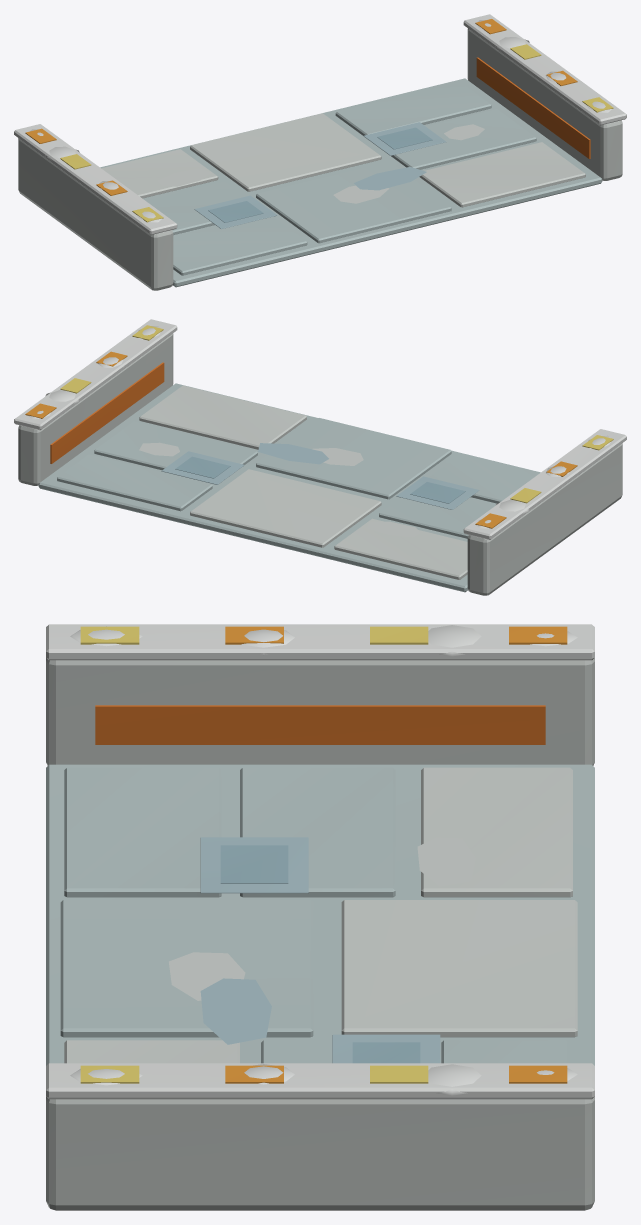
The model's file is runner_day_deck_kerb_b_v1.glb.
The picture shows the model from 3 angles, top to bottom: view 1: azimuth 30°, elevation 25°; view 2: azimuth 150°, elevation 25°; view 3: azimuth 270°, elevation 25°; orthographic projection. The views are drawn at different scales.
Parts seen in each view (by area): view 1: runner_day_deck_kerb_b_v1; view 2: runner_day_deck_kerb_b_v1; view 3: runner_day_deck_kerb_b_v1.
Boxes of the visible parts, x1,y1,x2,y2 form: runner_day_deck_kerb_b_v1: (14,14,626,290); runner_day_deck_kerb_b_v1: (14,319,626,595); runner_day_deck_kerb_b_v1: (46,624,594,1210).
Size of the model in its own units: 12.19 by 1.59 by 6.
